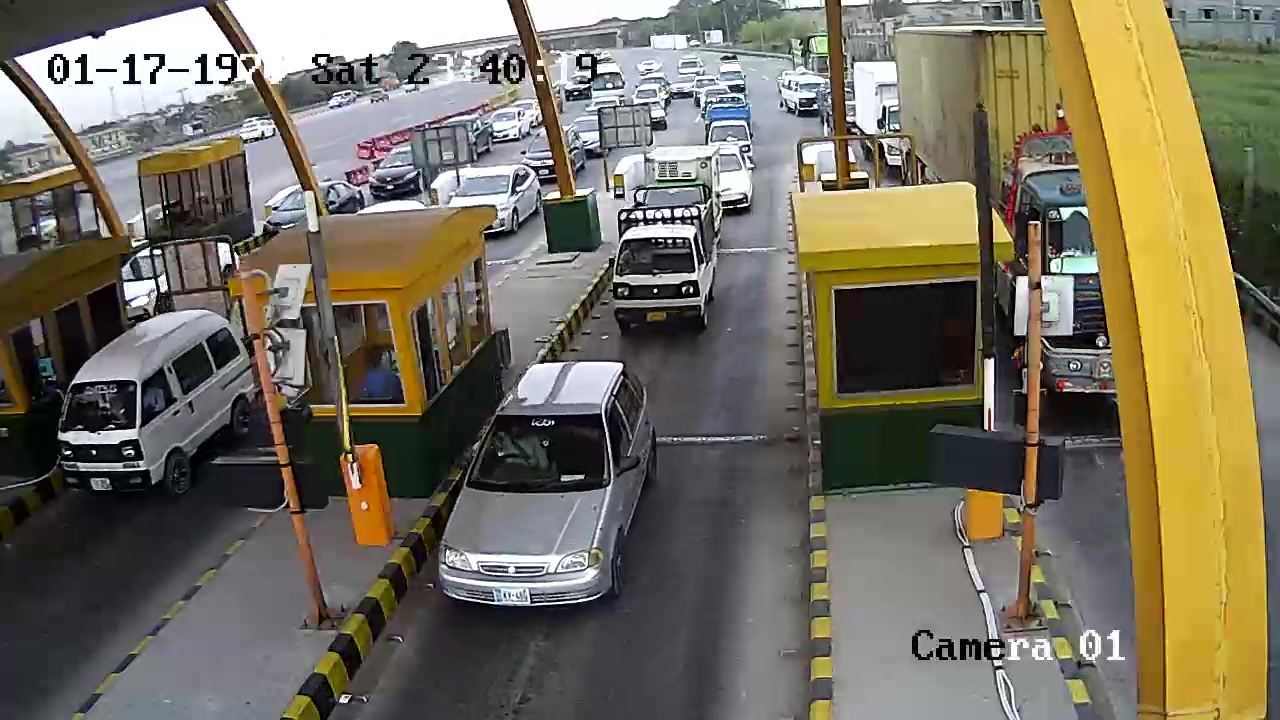F1: (440, 353, 670, 616), (611, 180, 723, 329)
